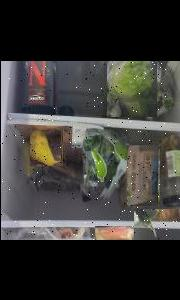Lechuga/Endivia: (105, 60, 155, 116)
Pan de sandwich: (127, 144, 159, 205)
Pera: (30, 129, 62, 165), (21, 137, 35, 185)
Pina: (134, 208, 180, 240)
Queso: (94, 225, 133, 240)
